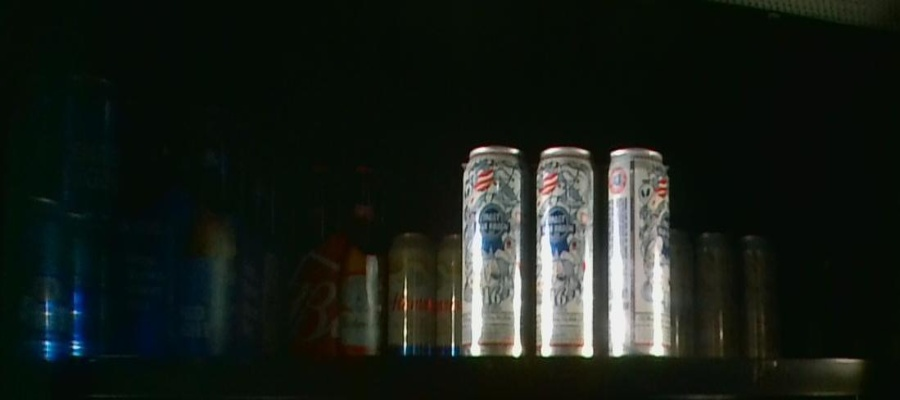bottle: (462, 145, 671, 362), (122, 88, 283, 366), (1, 68, 109, 362), (282, 136, 384, 355), (671, 227, 777, 361), (382, 213, 459, 357)
